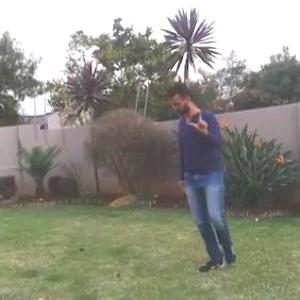land_hand: (186, 105, 215, 134)
